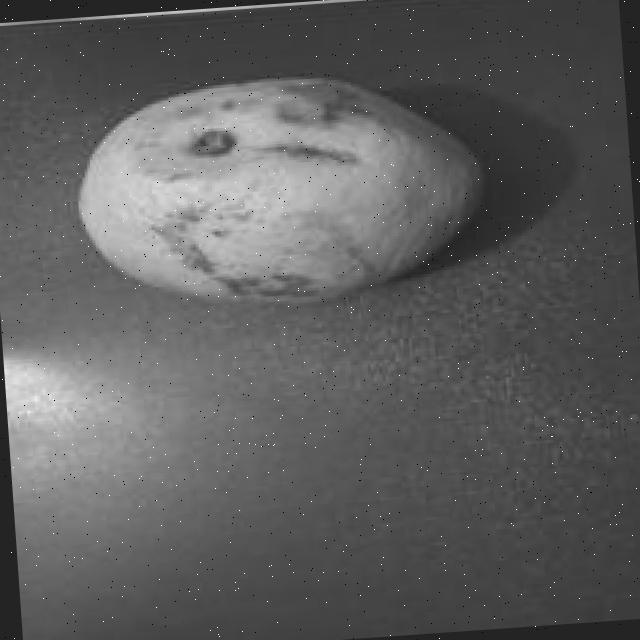overripe: (60, 52, 499, 321)
